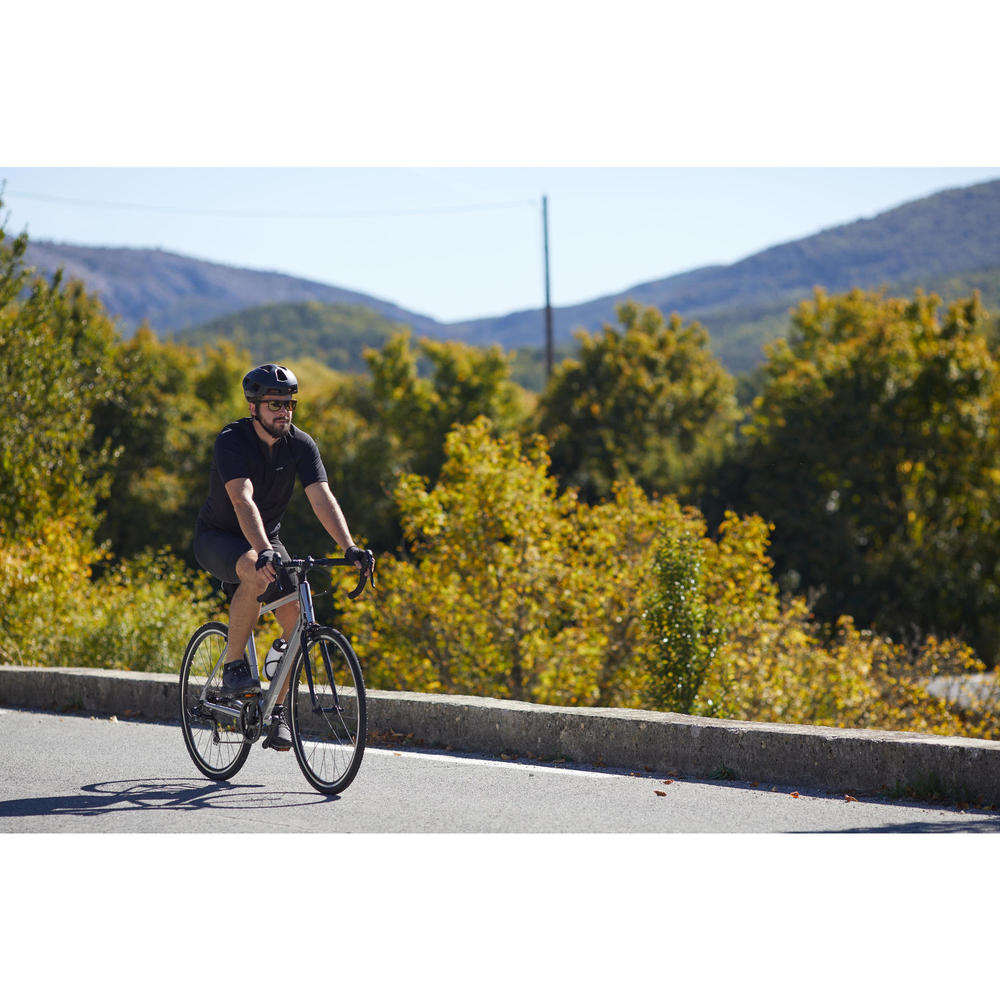RoadBike: (153, 534, 391, 812)
